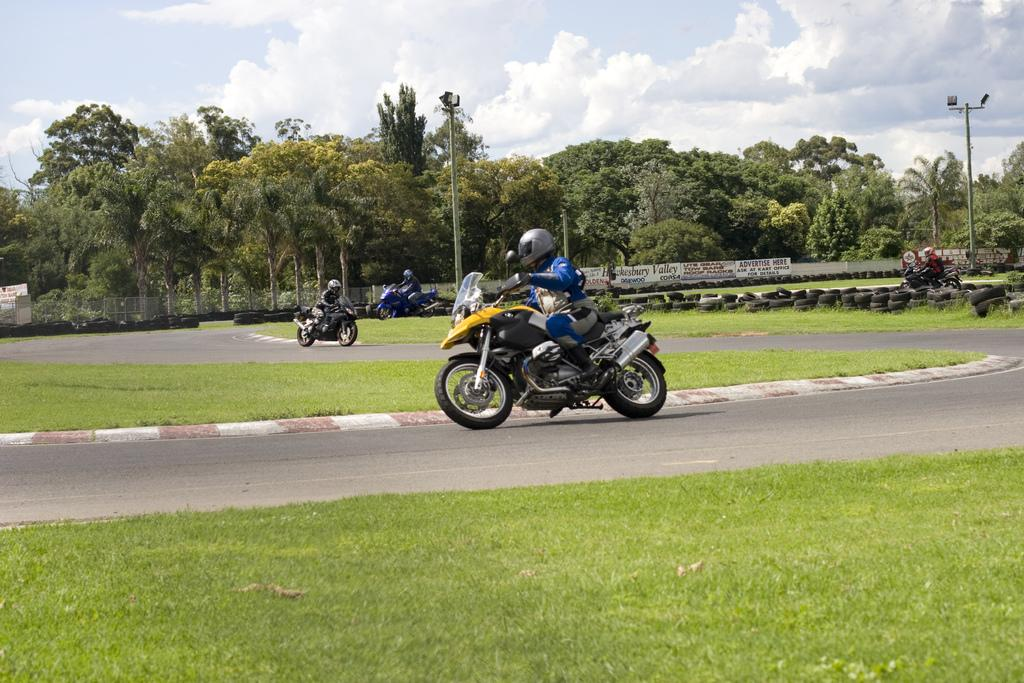helmet: (517, 228, 556, 269), (327, 279, 342, 295), (403, 269, 413, 281)
